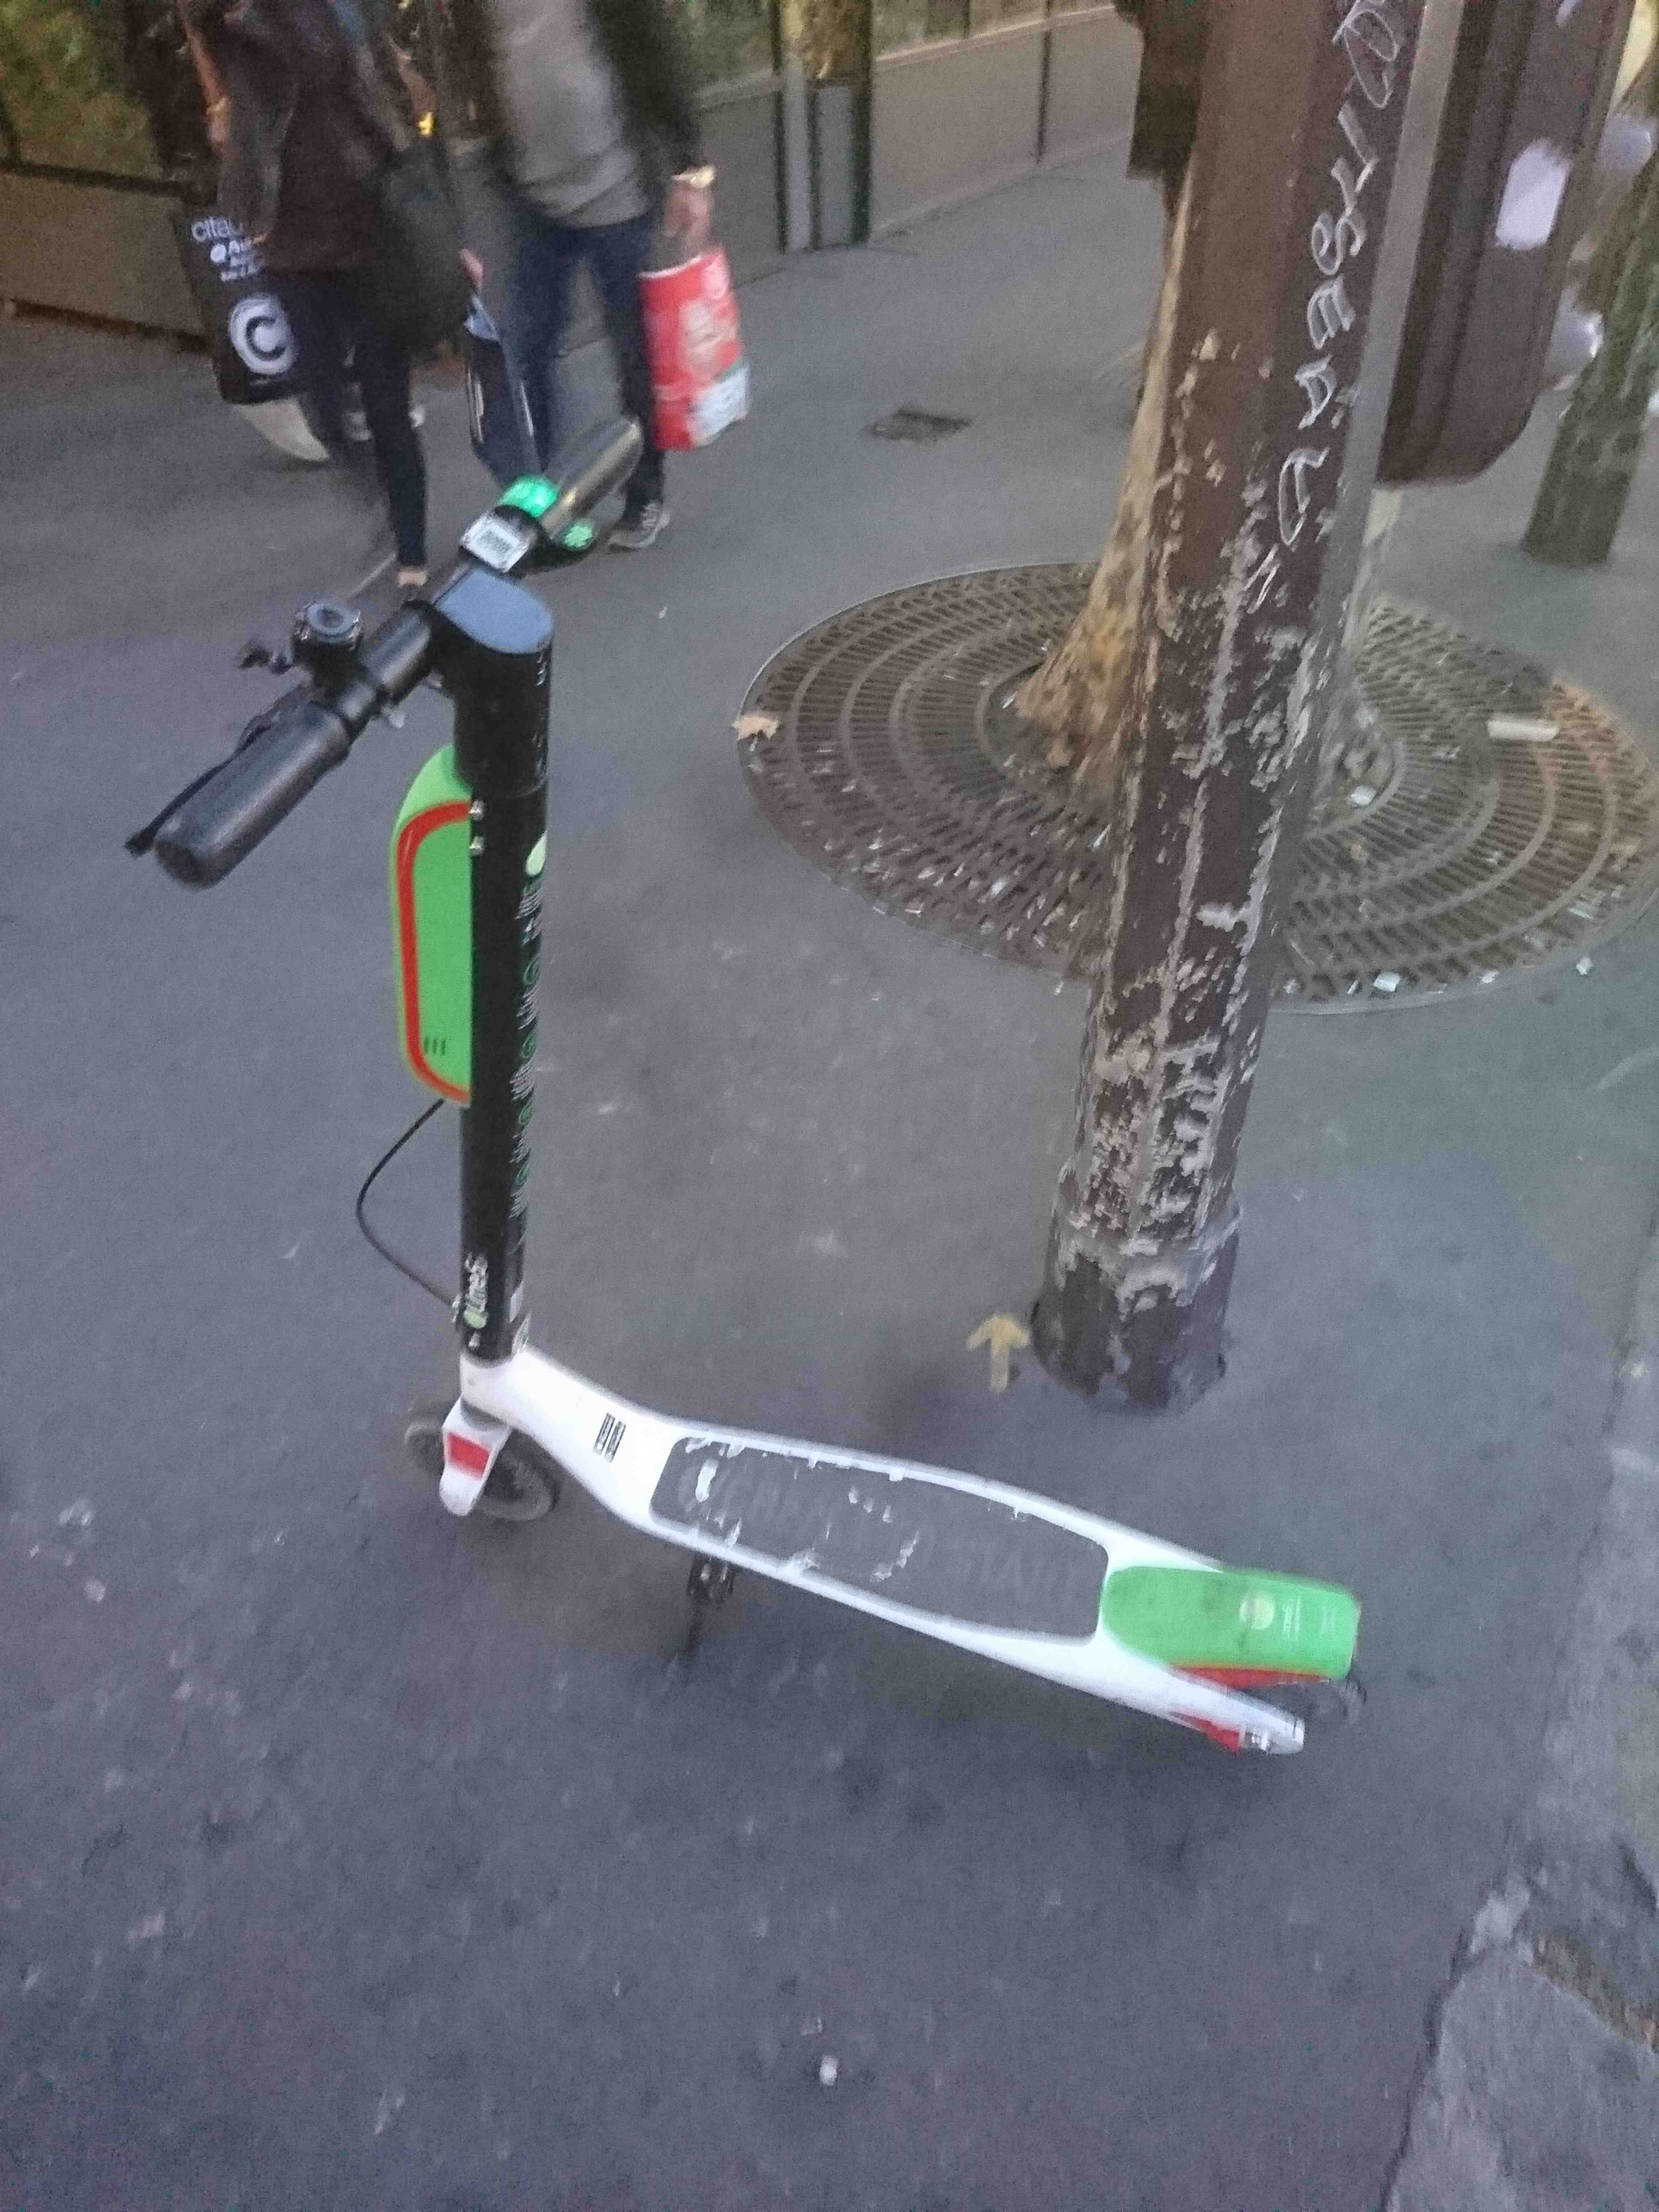scooter: (108, 378, 1394, 1796)
